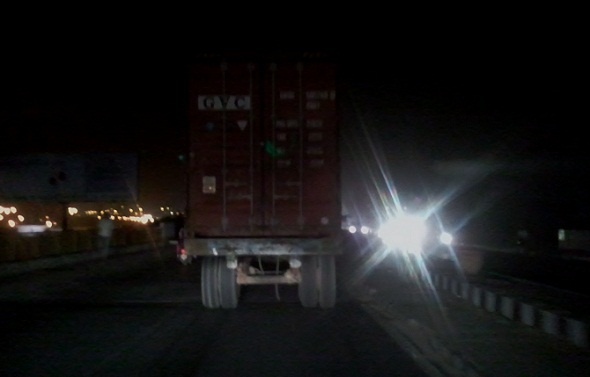truck: (187, 78, 342, 309)
